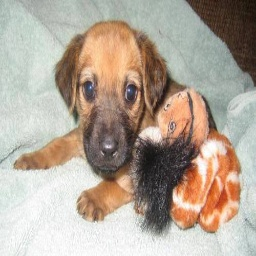dog: (9, 20, 233, 234)
